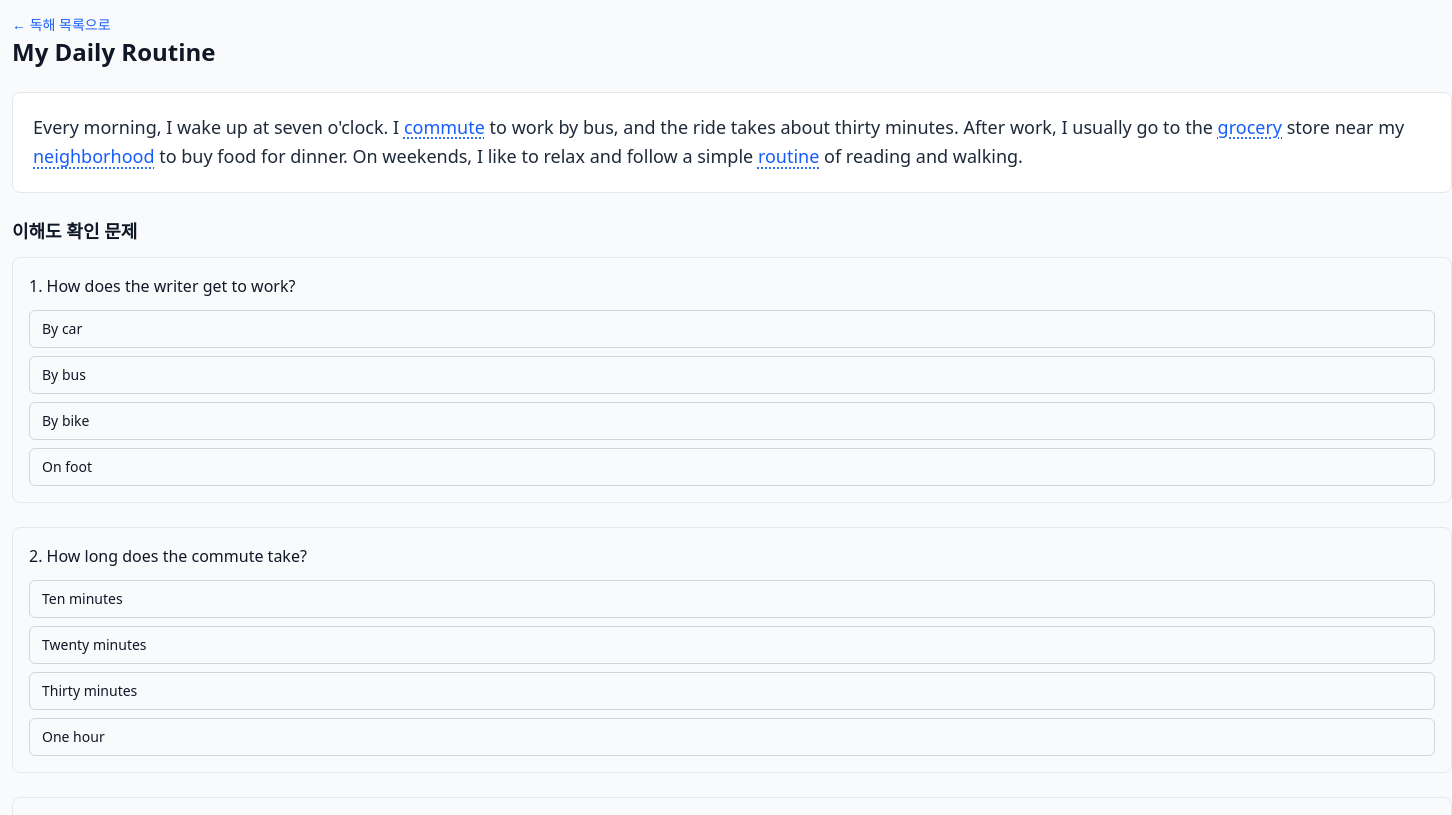
Scenario: ReadingPassagePage › 단어를 클릭하면 뜻 팝업이 표시된다
Expected: the heading "My Daily Routine" is shown, 12,35 -> 216,68
Click the button "commute". click: (444, 128)
box: 404,113 -> 485,142
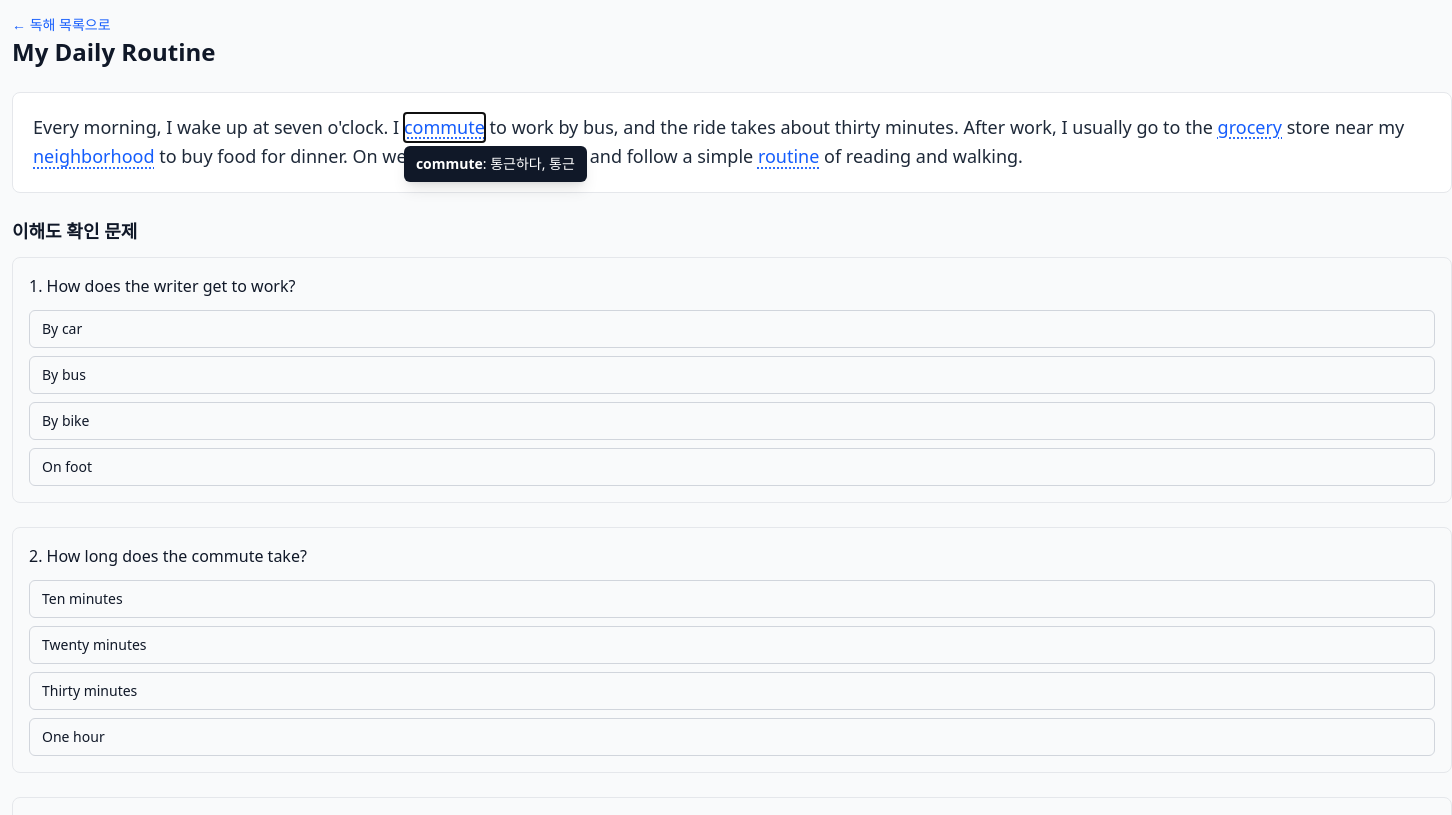
Result: the tooltip shows "통근하다, 통근" at 490,154 -> 575,173
